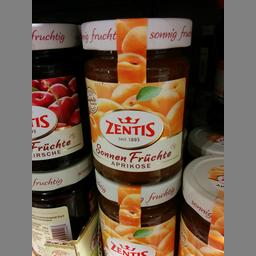jam: (78, 17, 193, 182), (30, 20, 84, 170), (92, 164, 180, 254), (32, 160, 93, 242), (177, 152, 223, 255)
